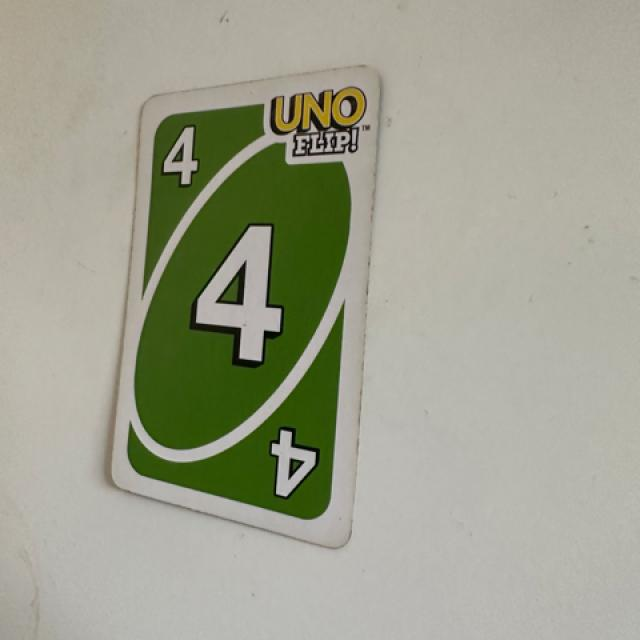lgreen-4: (146, 107, 222, 201)
